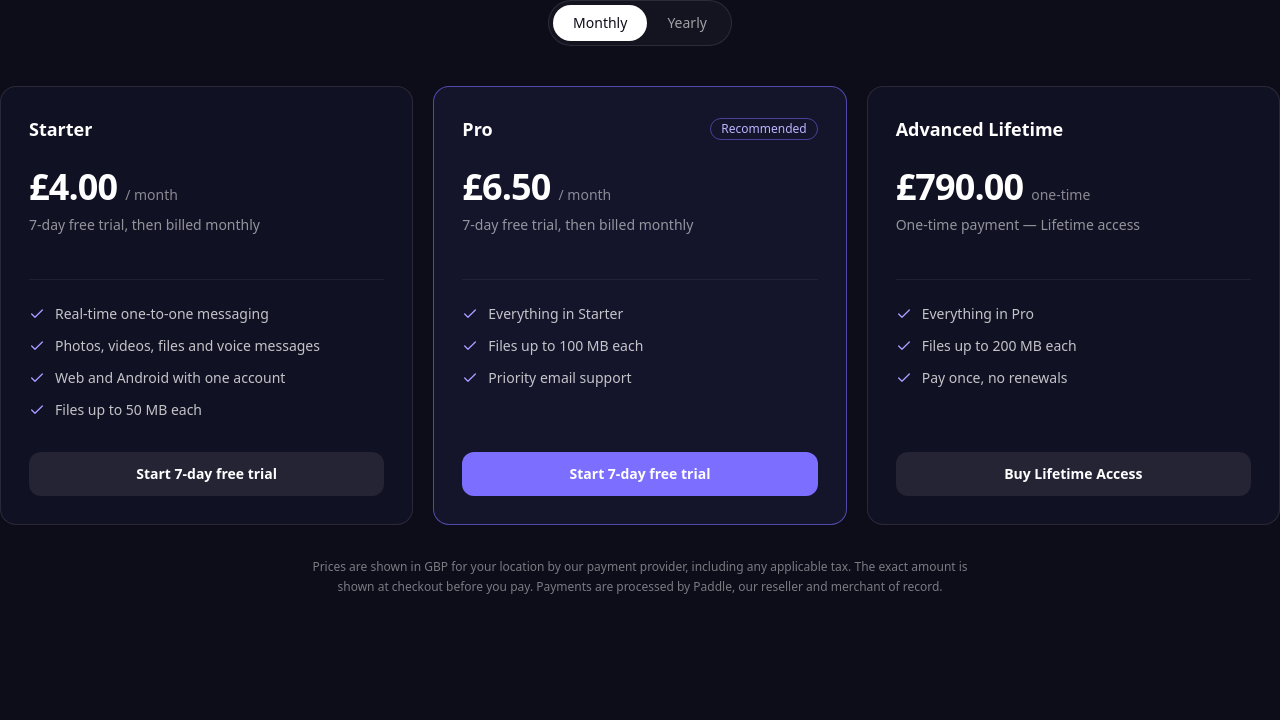
Scenario: pricing table › shows the server message and a billing link when the user is already subscribed
Click the button "Start 7-day free trial" below "Files up to 50 MB each".
click(207, 474)  # box [29,452,384,496]
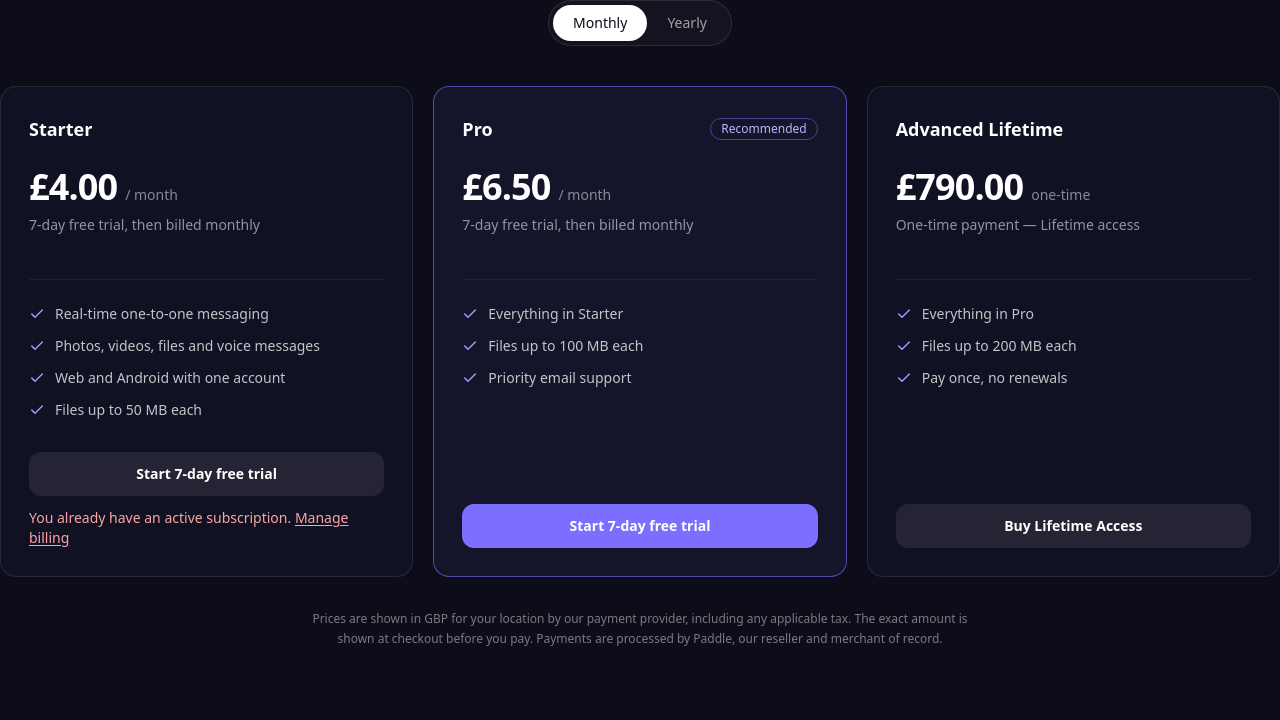
Check: the message shows "already have an active subscription", box [29,508,291,527]
